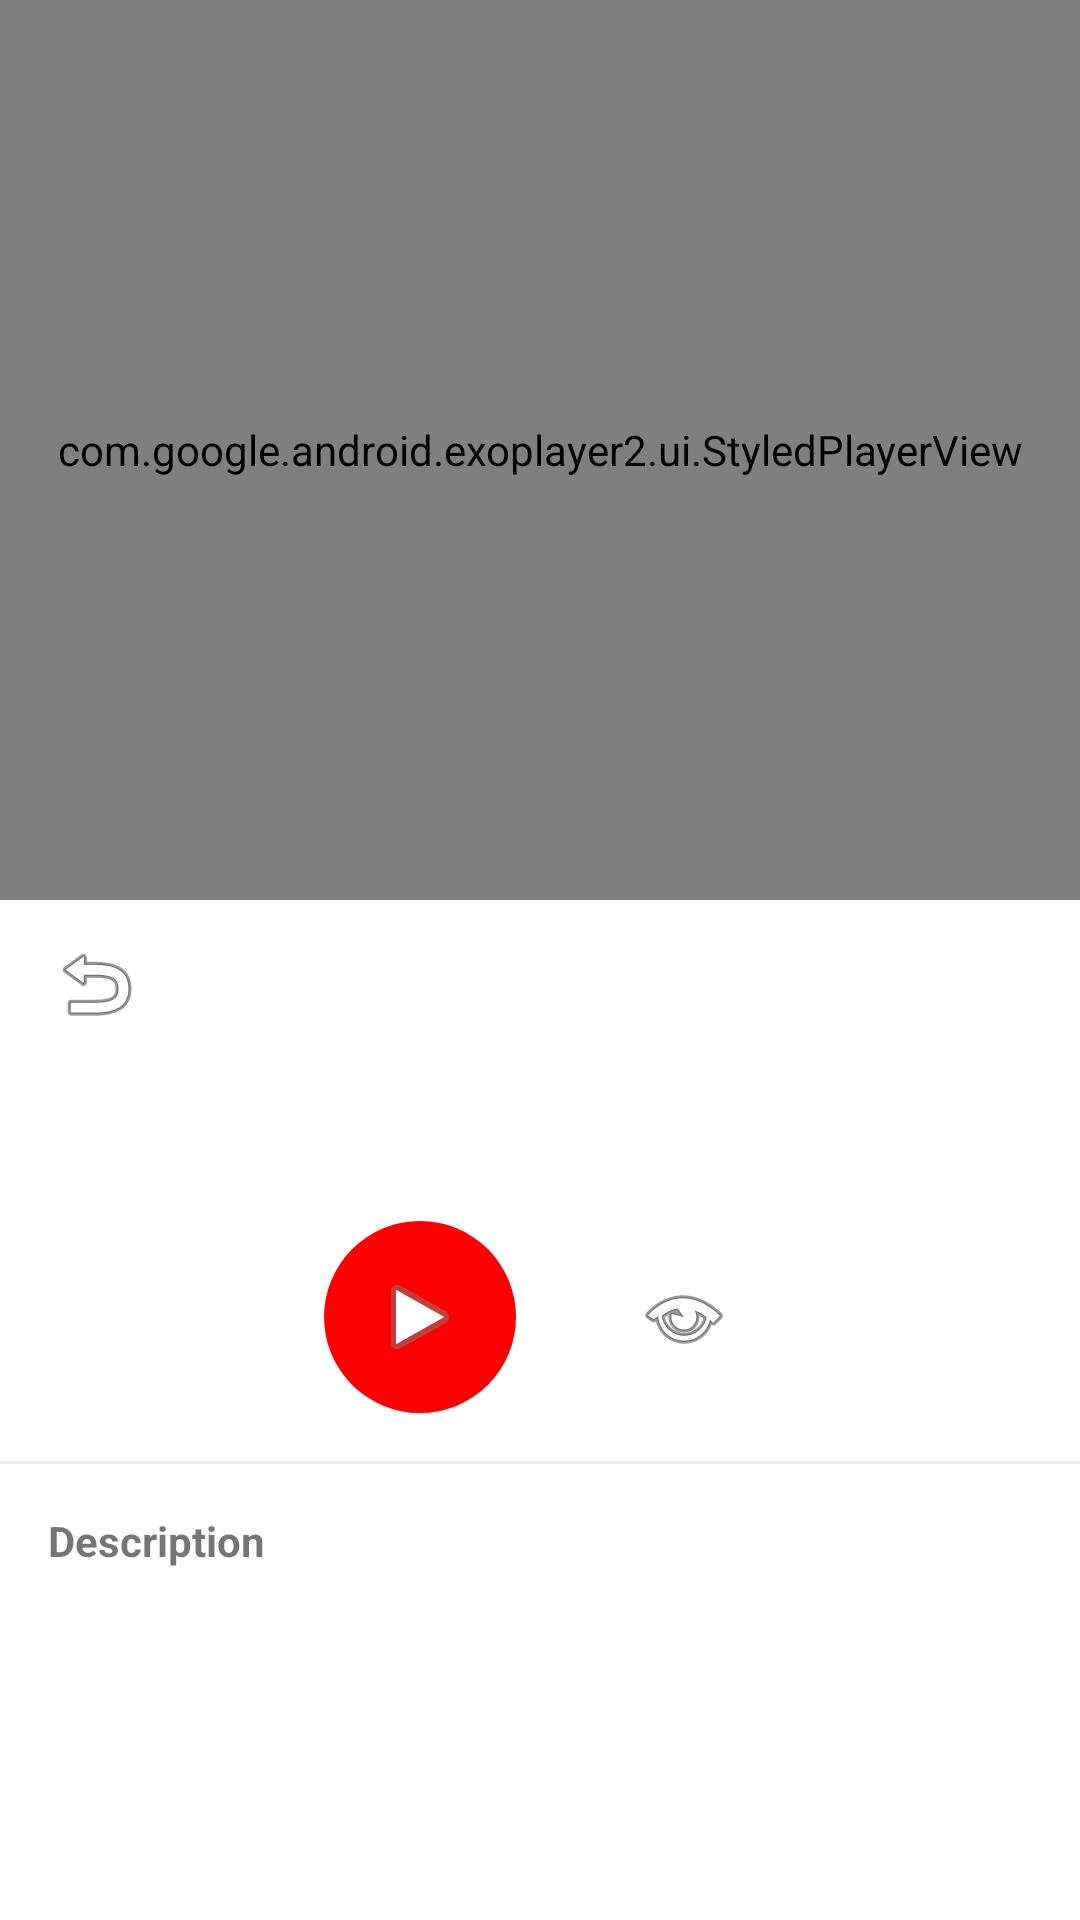

Icon bounding boxes for this 1080px x 1920px phone screenshot, format {"x1": x1, "y1": y1, "x2": x2, "y2": y2}:
Back: {"x1": 63, "y1": 953, "x2": 132, "y2": 1016}
Play/Pause: {"x1": 324, "y1": 1221, "x2": 516, "y2": 1413}
